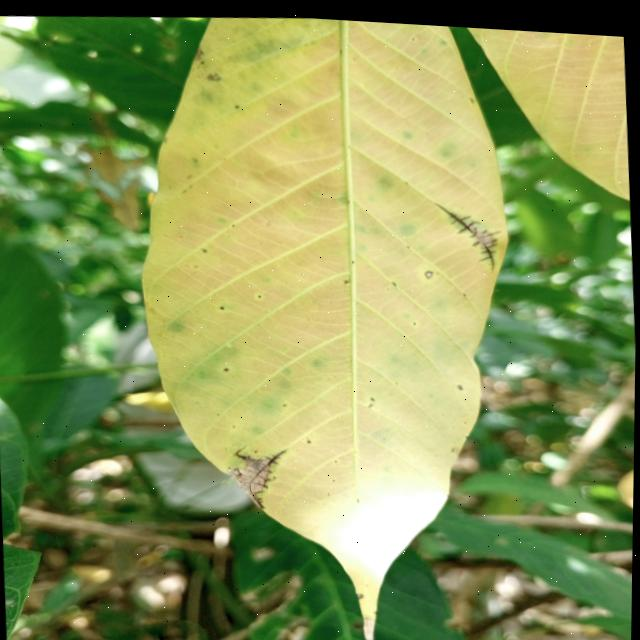Colletotrichum: (426, 265, 434, 273), (222, 304, 226, 307), (226, 366, 230, 368)
Corynespora: (435, 193, 503, 271), (227, 440, 291, 510)
Leaf-Blight: (365, 613, 378, 639)
